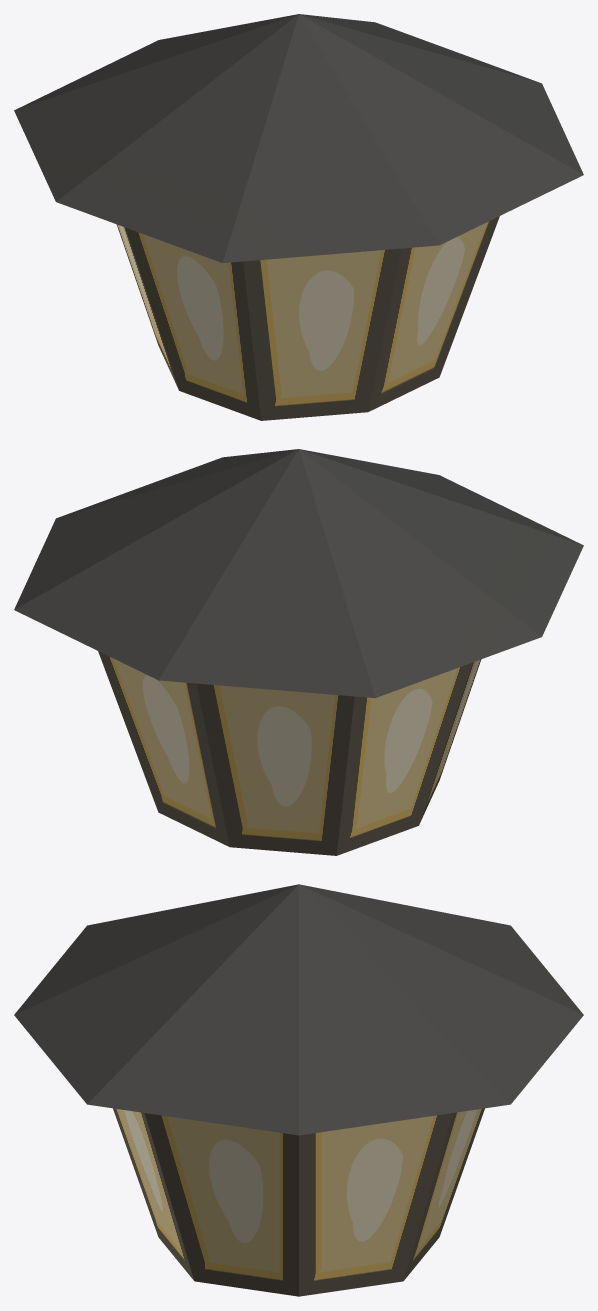
The model's file is lamp.glb.
3 renders of one model, top to bottom at view 1: azimuth 30°, elevation 25°; view 2: azimuth 150°, elevation 25°; view 3: azimuth 270°, elevation 25°, orthographic.
Visible parts, largest first — view 1: Cube; view 2: Cube; view 3: Cube.
Part boxes in pixels (bbox=[...]): Cube: bbox=[14, 14, 583, 420]; Cube: bbox=[14, 449, 583, 855]; Cube: bbox=[14, 884, 583, 1296].
Bounding box in the file's own units: 3.17 × 2.16 × 3.17.
Materials: 1 (1 with a texture image).
